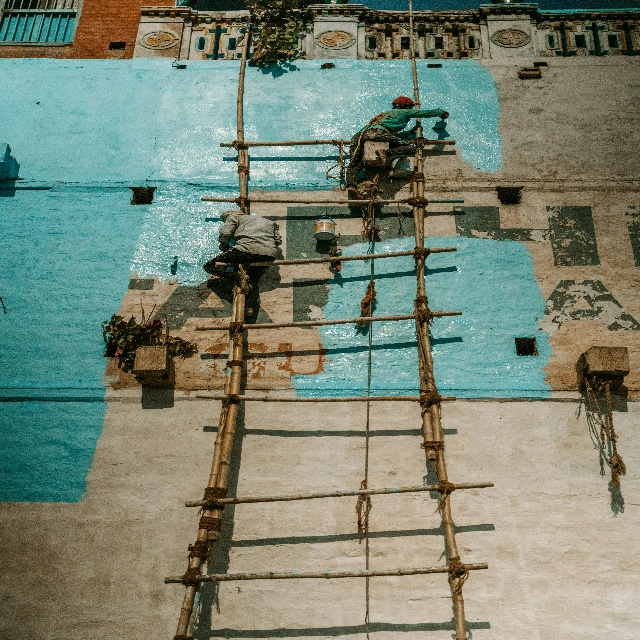Sin_guantes: (440, 110, 449, 120)
